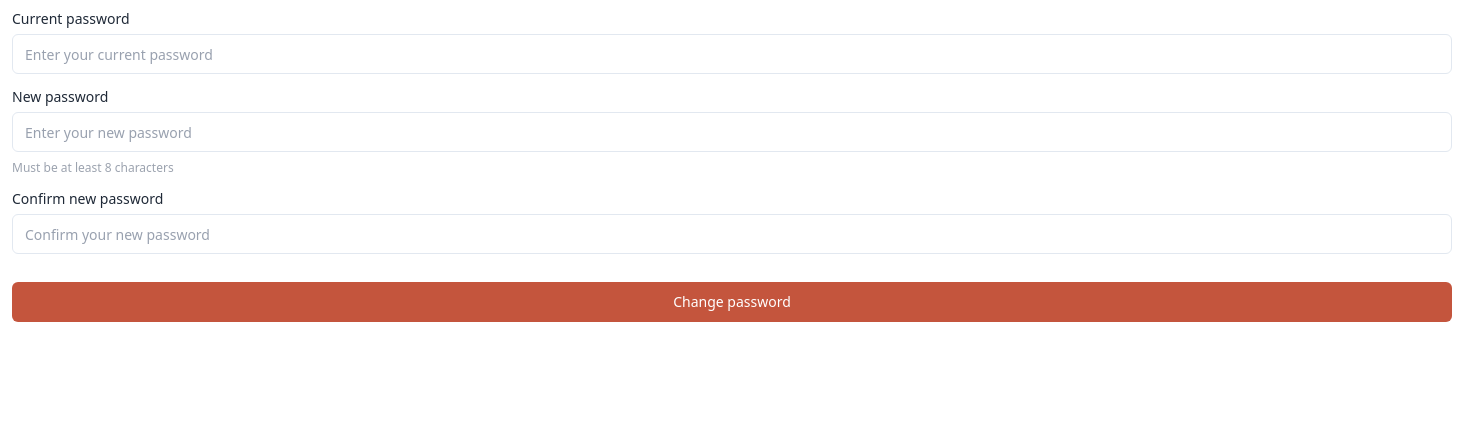
Test: ChangePasswordForm › shows error message for incorrect current password
The width and height of the screenshot is (1464, 429).
Type "wrongpassword" into the password field labelled "Current password". click: (732, 54)
box: [12, 34, 1452, 74]
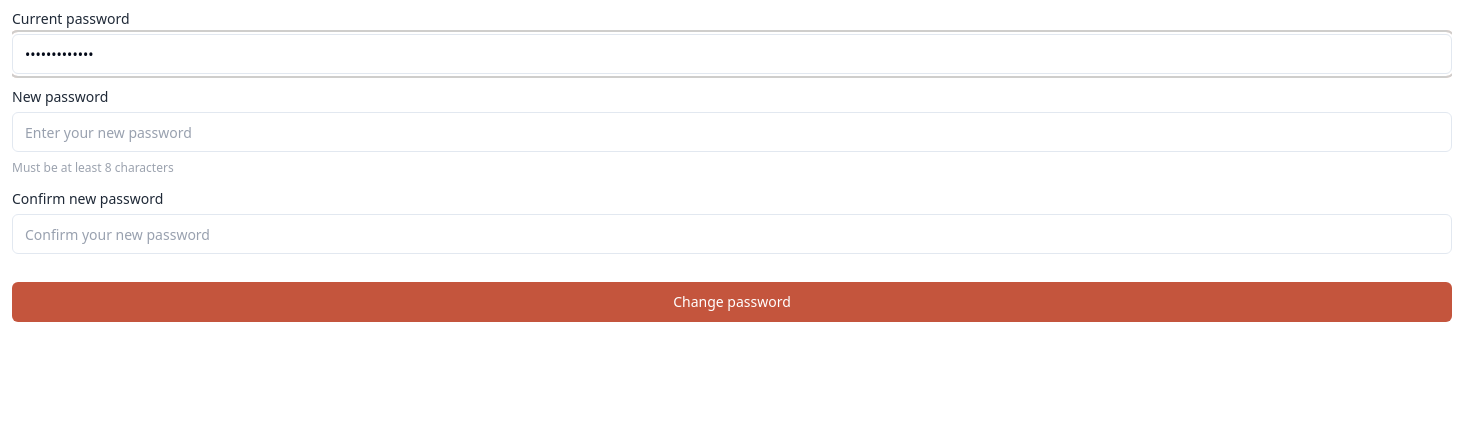
Type "newpassword456" into the password field labelled "New password". click: (732, 132)
box: [12, 112, 1452, 152]
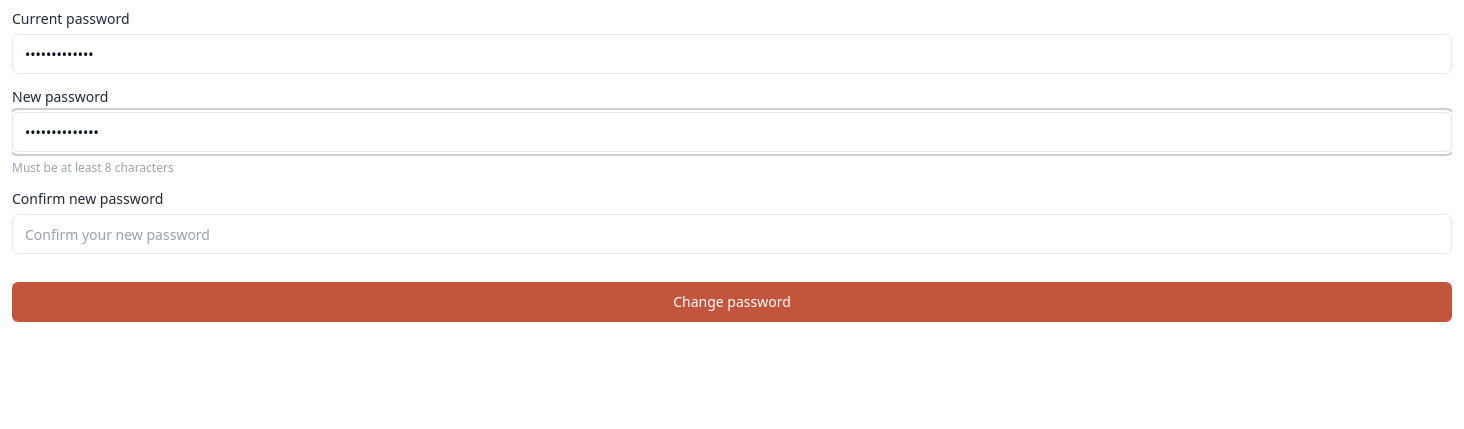
Type "newpassword456" into the password field labelled "Confirm new password". click: (732, 234)
box: [12, 214, 1452, 254]
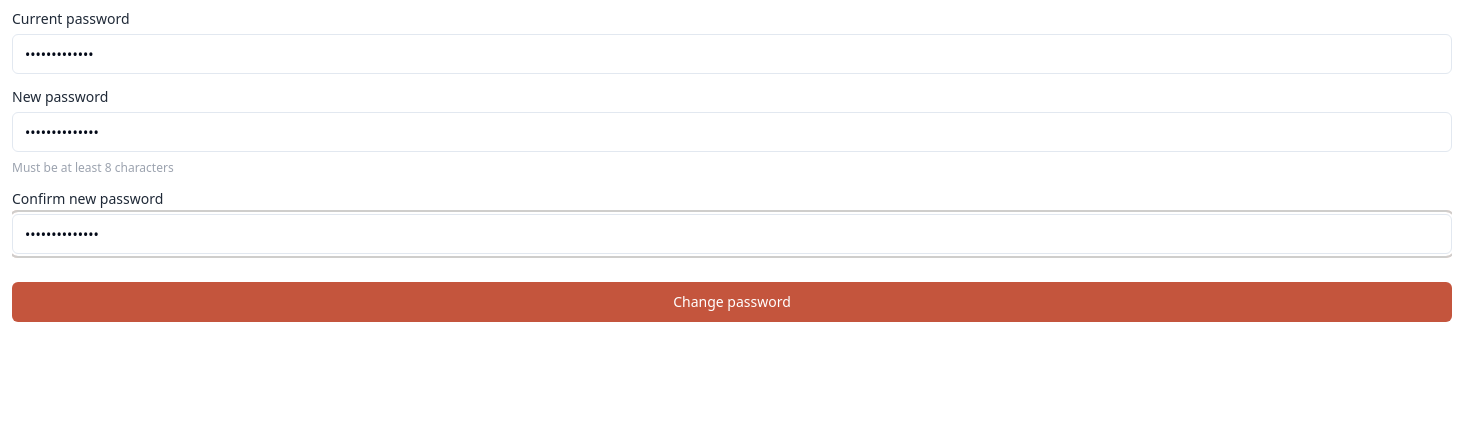
Click the button "Change password". click: (732, 302)
box: [12, 282, 1452, 322]
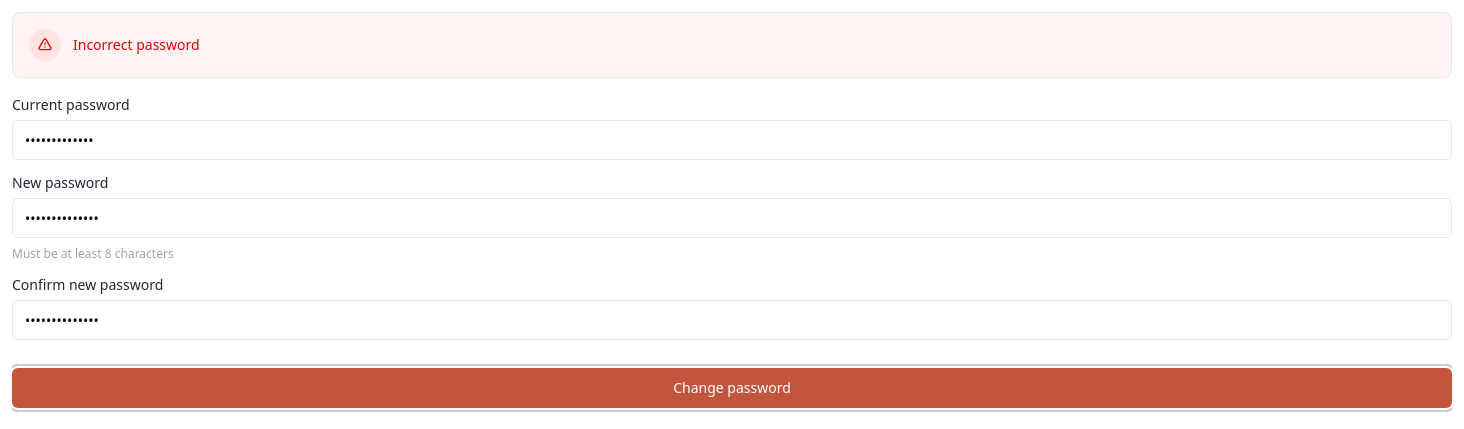
Check: the text "Incorrect password" is shown, box [73, 35, 200, 55]
